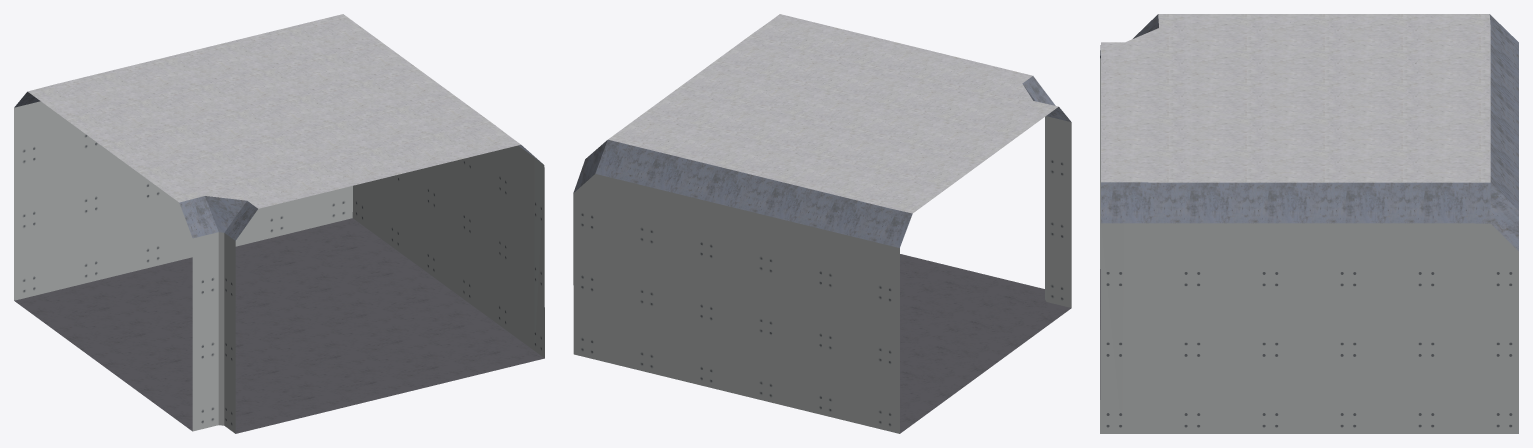
The model's file is starship_right_corner.FBX.
3 views of the same model, side by side, from view 1: azimuth 30°, elevation 25°; view 2: azimuth 150°, elevation 25°; view 3: azimuth 270°, elevation 25° (orthographic). The views are drawn at different scales.
Parts seen in each view (by area): view 1: LeftCorner; view 2: LeftCorner; view 3: LeftCorner.
Part boxes in pixels (x1,y1,x2,y2): LeftCorner: (14,14,544,433); LeftCorner: (573,14,1071,433); LeftCorner: (1100,14,1518,433).
Size of the model in its own units: 2.67 by 1.65 by 2.61.
